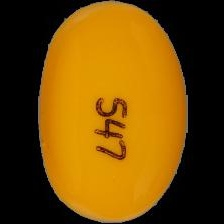0054-0007: (0, 0, 224, 224)
